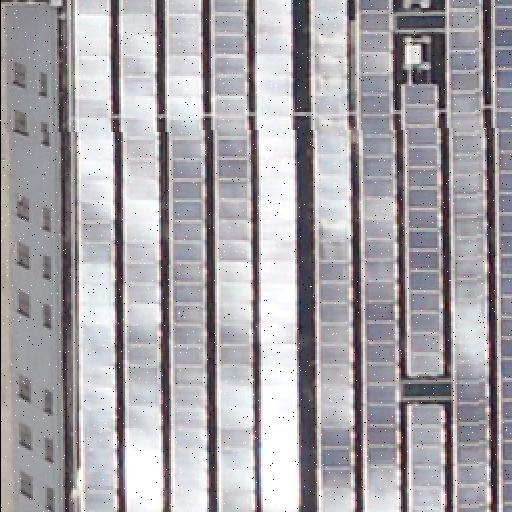solar-panel: (70, 0, 512, 512)
